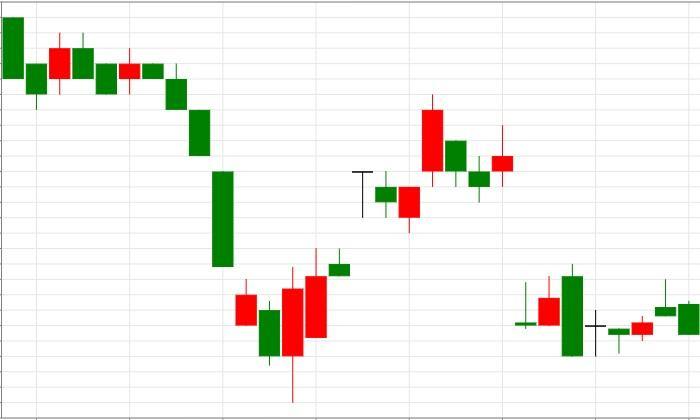bullish_engulfing_rise: (142, 63, 304, 404)
